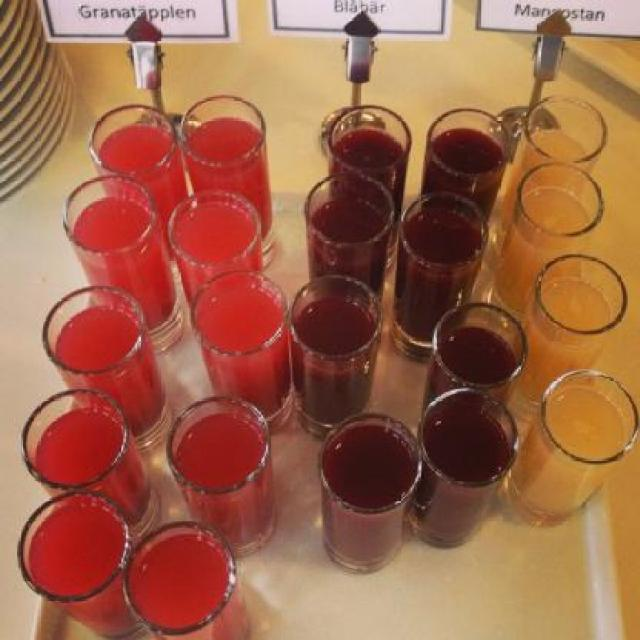Juice: (21, 124, 520, 638), (178, 102, 264, 195)
